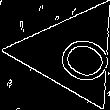O_NW: (34, 21, 108, 85)
